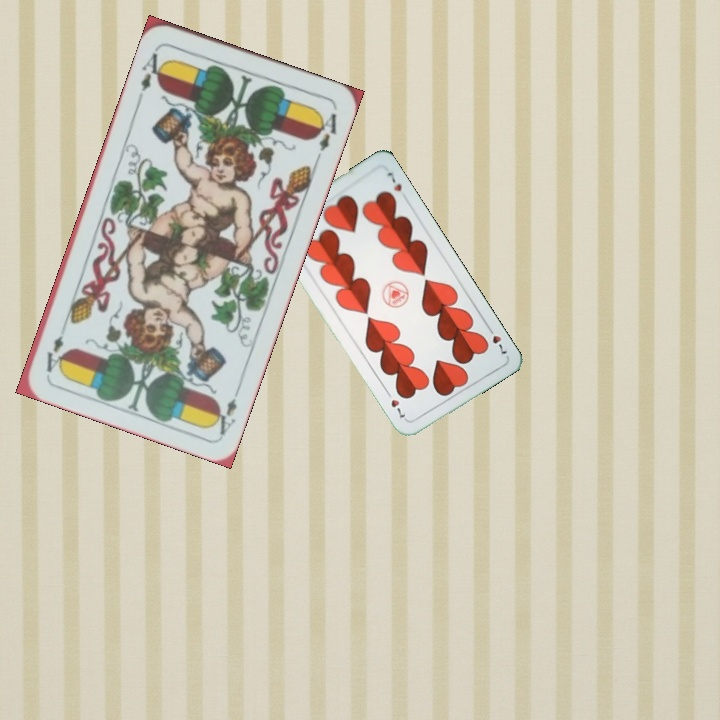EA: (208, 381, 243, 438), (136, 44, 169, 94)
H7: (483, 322, 510, 357)
